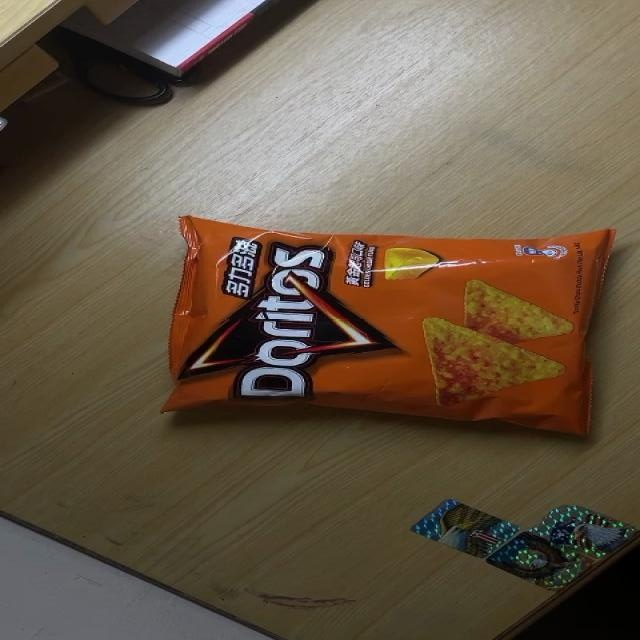Doritos: (160, 215, 621, 438)
